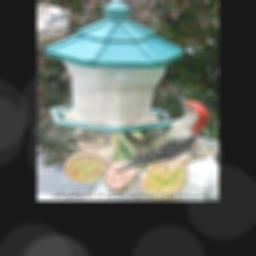Woodpecker: (114, 92, 208, 172)
